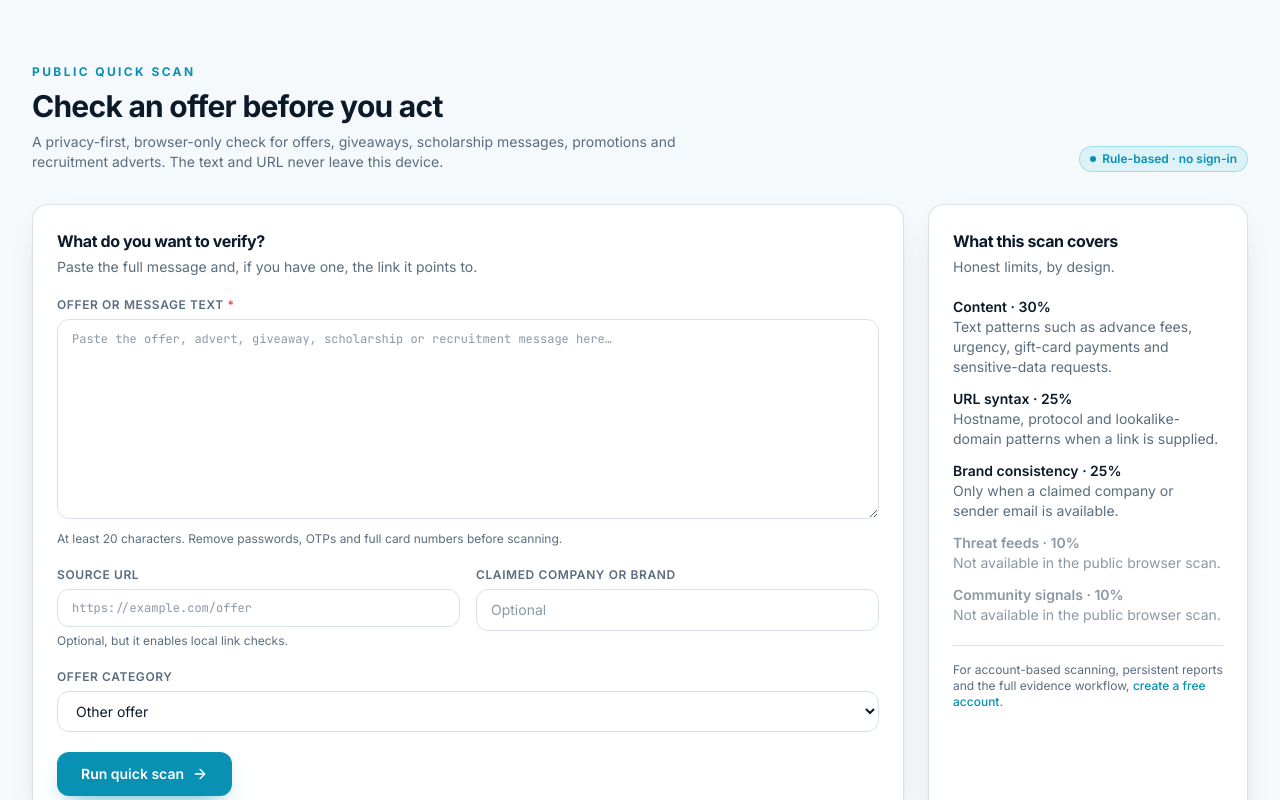
public quick-scan page › requires text or a URL before scanning
Click the button "Run quick scan" at (144, 774), box x1=57 y1=752 x2=232 y2=796
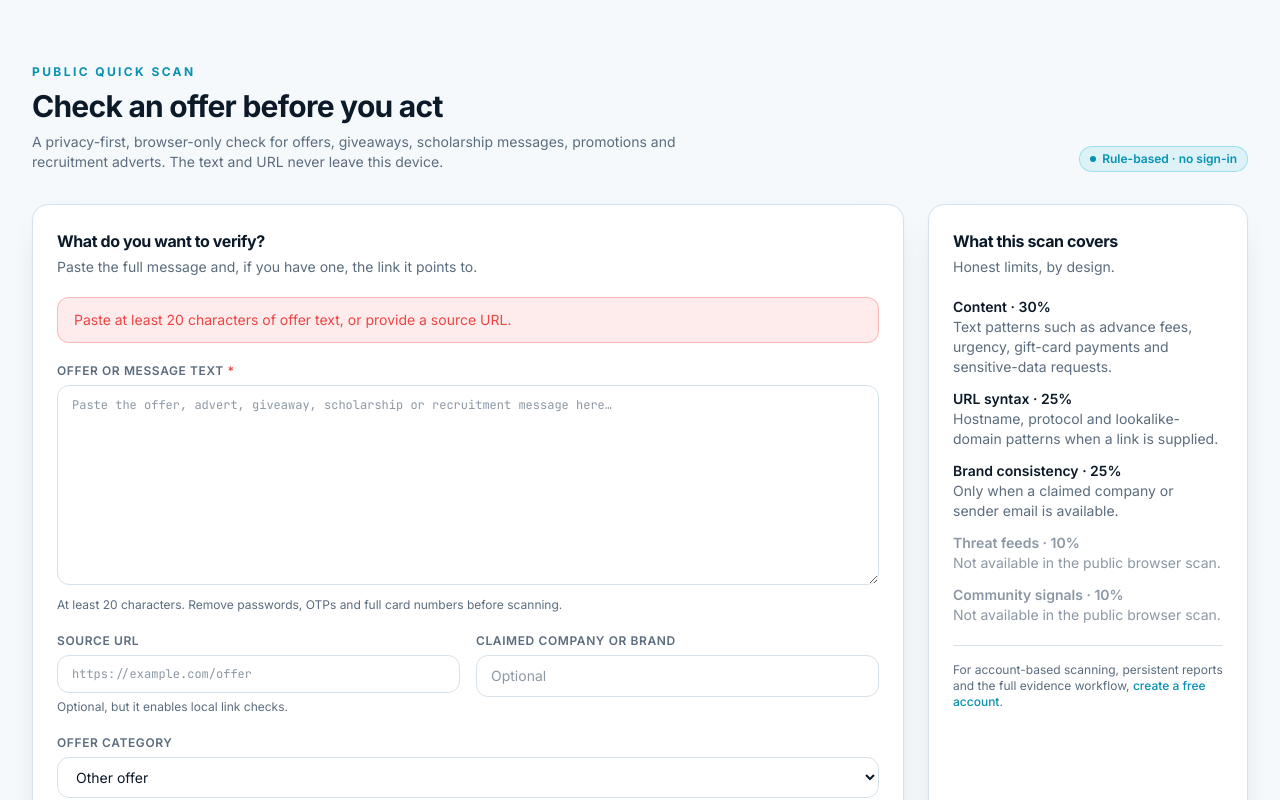
Check: the message shows "at least 20 characters", box x1=74 y1=311 x2=511 y2=328
